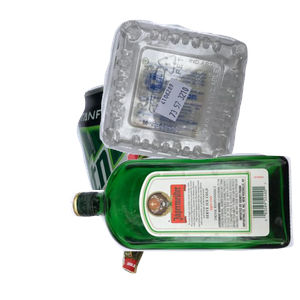glass: (67, 150, 300, 300)
metal: (74, 74, 257, 254)
plastic: (97, 17, 300, 176)
trash: (120, 131, 290, 300)
